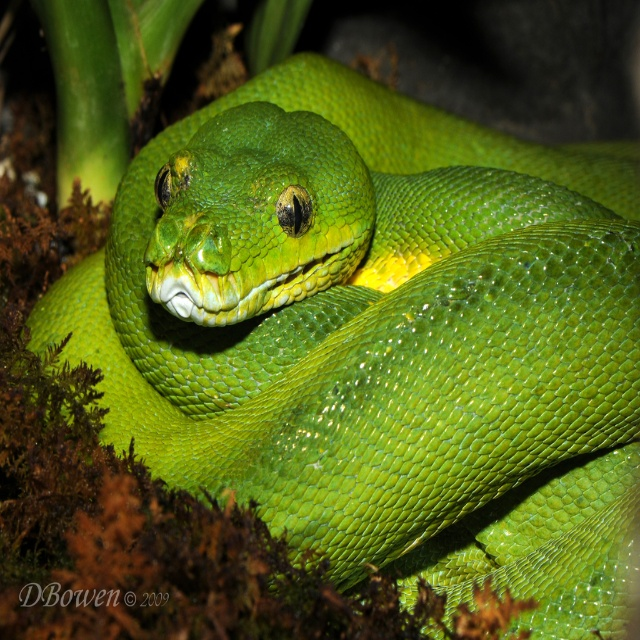Snake: (13, 54, 640, 640)
